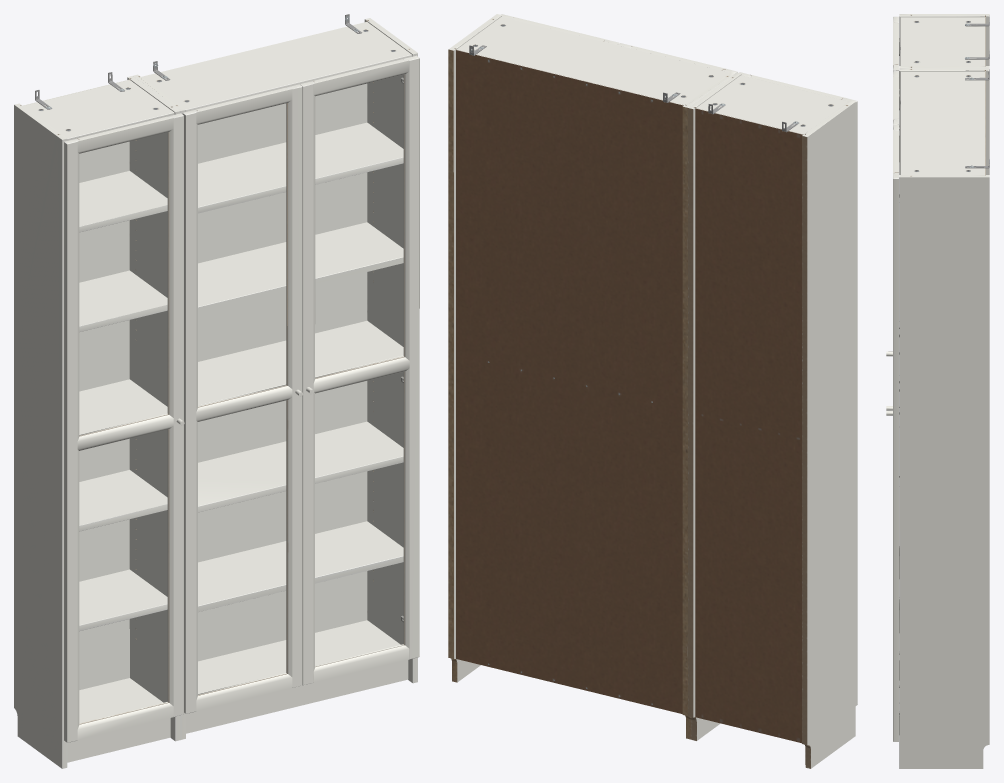
The model's file is 19 - BILLY OXBERG Bookcase with glass-doors - white 120x30x202 cm.glb.
3 views of the same model, side by side, from view 1: azimuth 30°, elevation 25°; view 2: azimuth 150°, elevation 25°; view 3: azimuth 270°, elevation 25° (orthographic). The views are drawn at different scales.
Parts seen in each view (by area): view 1: Mesh_0; view 2: Mesh_0; view 3: Mesh_0.
Boxes of the visible parts, box(x1,y1,x2,y2) form: Mesh_0: box(14, 14, 419, 768); Mesh_0: box(448, 14, 857, 768); Mesh_0: box(886, 14, 989, 768).
Size of the model in its own units: 1.2 by 2.05 by 0.3202.
2 materials, 1 textured.
